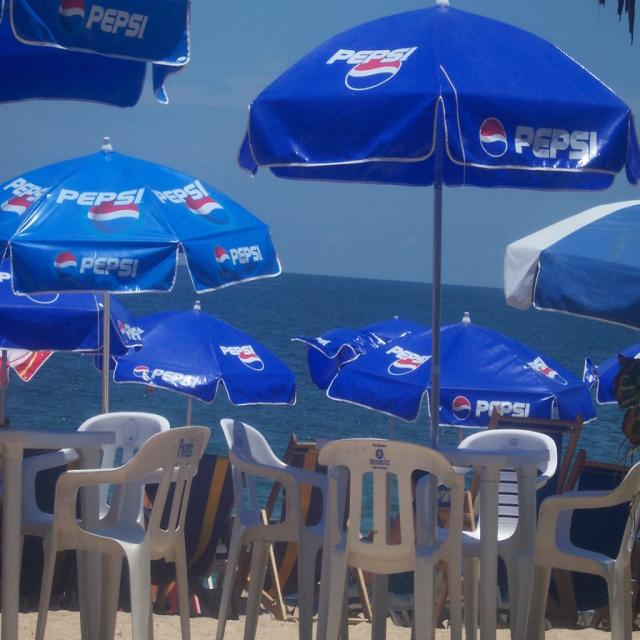pepsi: (344, 55, 409, 95), (86, 203, 145, 237), (187, 194, 228, 230), (2, 193, 32, 230), (481, 120, 510, 158), (57, 2, 87, 38), (237, 349, 267, 378), (387, 354, 417, 383), (54, 251, 79, 282), (212, 245, 234, 278), (454, 395, 472, 419), (134, 365, 150, 378)
